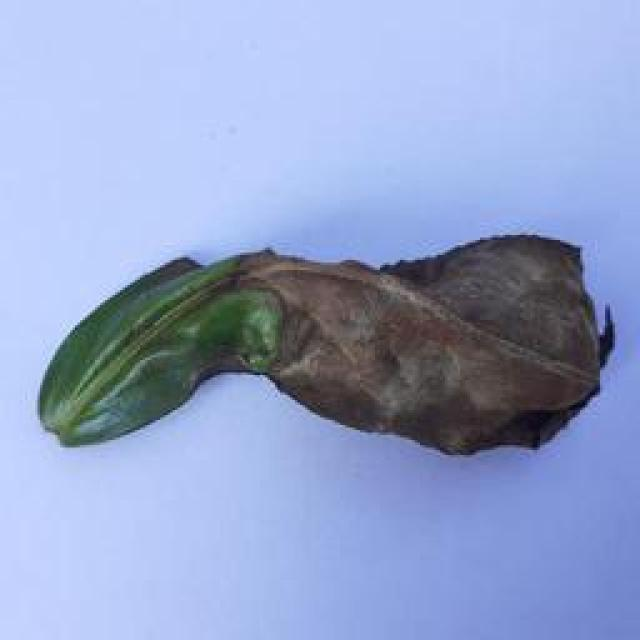Brown Blight: (41, 206, 624, 466)
